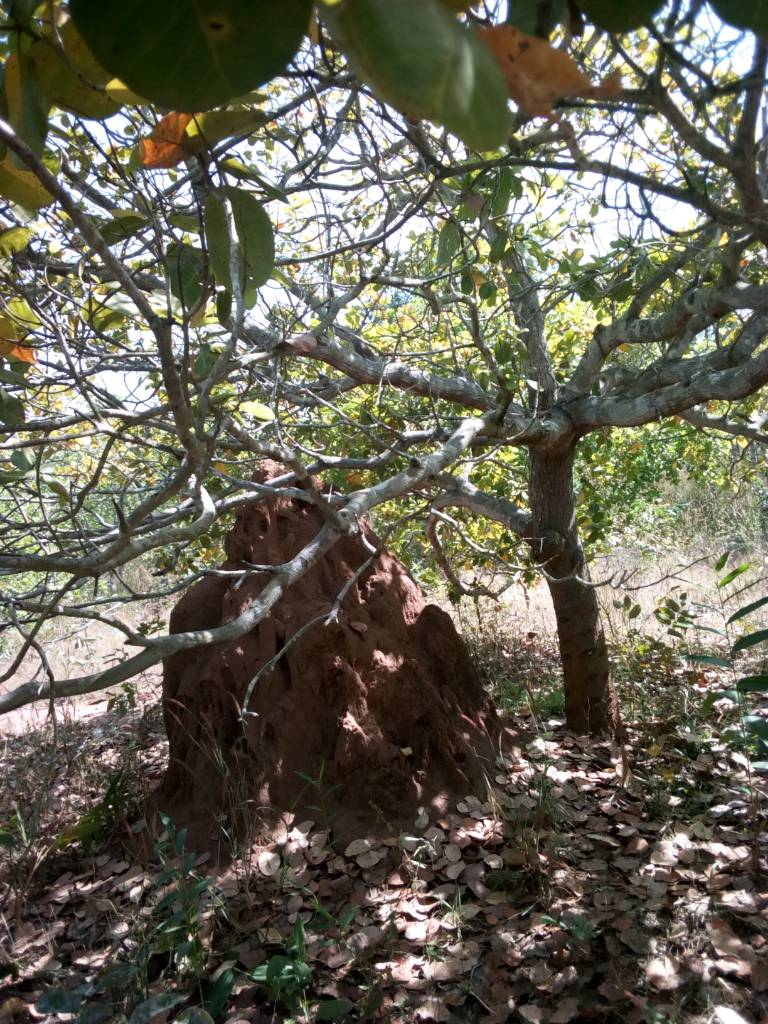Termites: (255, 624, 463, 772)
